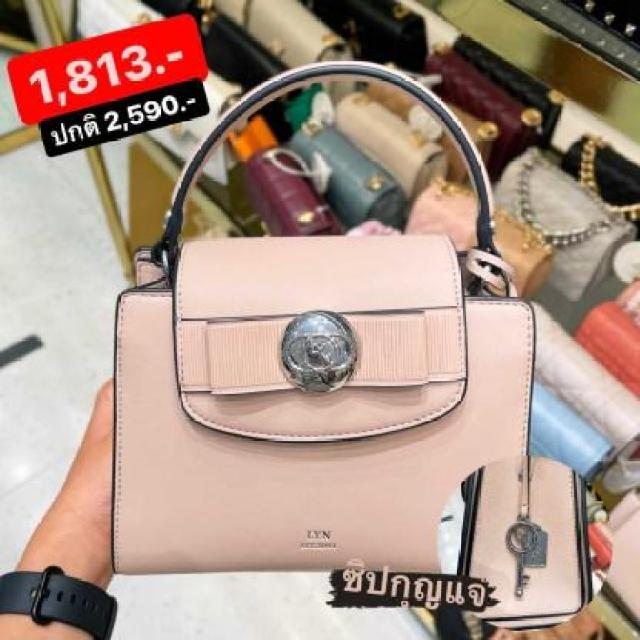Bag: (56, 34, 575, 640)
